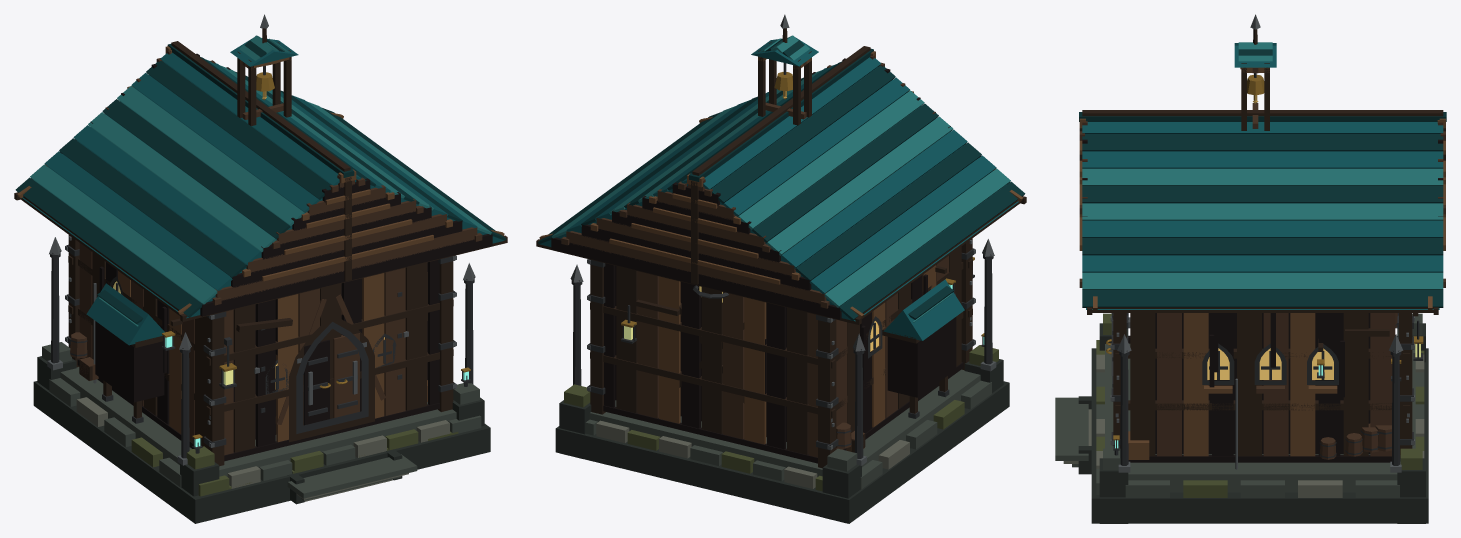
Rendered from fenbridge_lantern_chapel.glb.
3 renders of one model, left to right at view 1: azimuth 30°, elevation 25°; view 2: azimuth 150°, elevation 25°; view 3: azimuth 270°, elevation 25°, orthographic. The views are drawn at different scales.
Parts seen in each view (by area): view 1: FenbridgeLanternChapel_FenbridgeOpaque; view 2: FenbridgeLanternChapel_FenbridgeOpaque; view 3: FenbridgeLanternChapel_FenbridgeOpaque, FenbridgeLanternChapel_FenbridgeEmissive.
Boxes of the visible parts, <box> form: FenbridgeLanternChapel_FenbridgeOpaque: <box>14,14,507,523</box>; FenbridgeLanternChapel_FenbridgeOpaque: <box>536,14,1026,523</box>; FenbridgeLanternChapel_FenbridgeOpaque: <box>1055,14,1446,523</box>; FenbridgeLanternChapel_FenbridgeEmissive: <box>1115,344,1420,448</box>.
Bounding box in the file's own units: 7 × 8.6 × 7.
